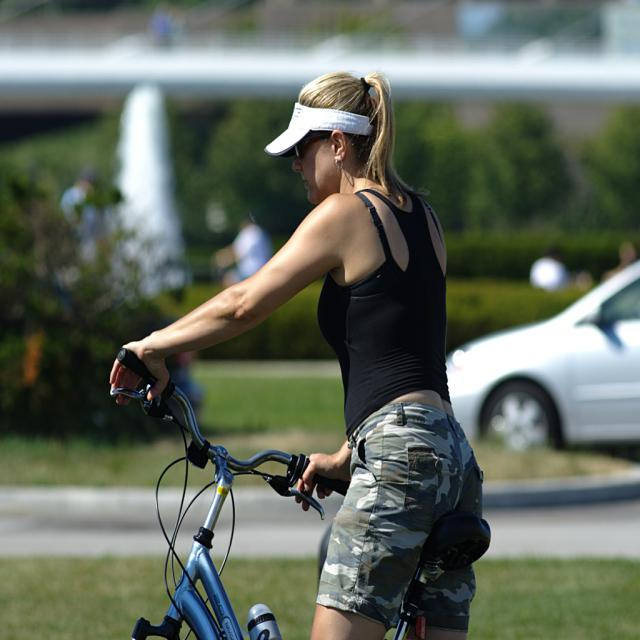car: (443, 255, 639, 453)
